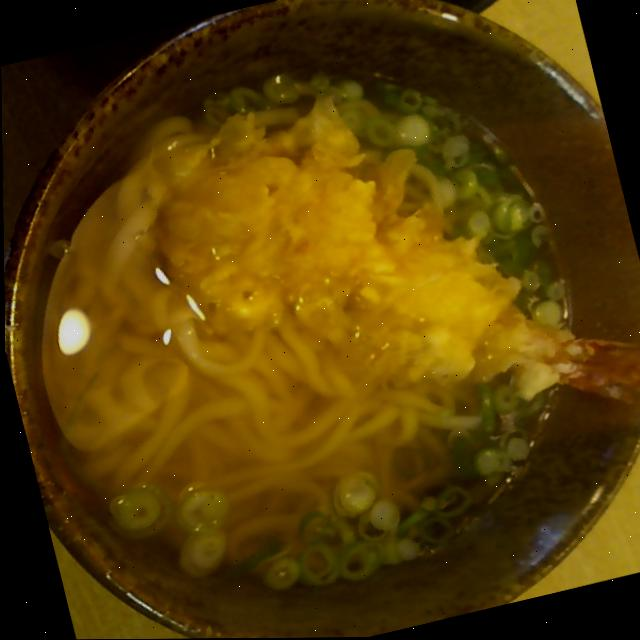面条主食: (0, 7, 628, 640)
